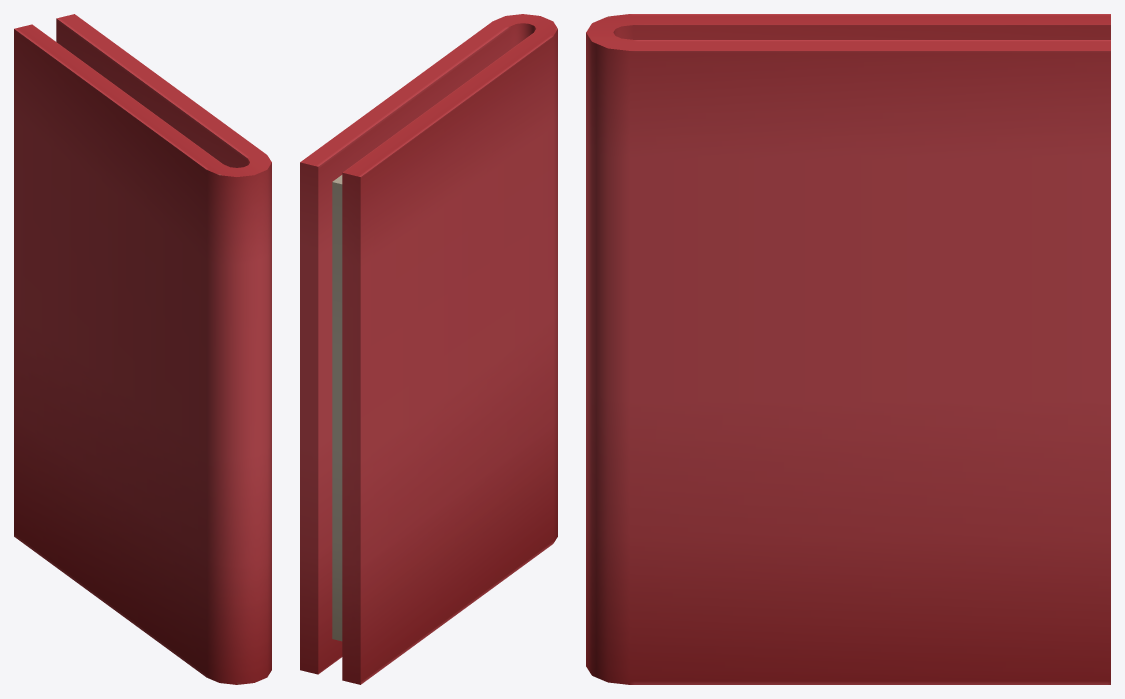
Rendered from BookPink.fbx.
3 renders of one model, left to right at view 1: azimuth 30°, elevation 25°; view 2: azimuth 150°, elevation 25°; view 3: azimuth 270°, elevation 25°, orthographic. The views are drawn at different scales.
Visible parts, largest first — view 1: BookPink; view 2: BookPink; view 3: BookPink.
Part boxes in pixels (bbox=[...]): BookPink: bbox=[14, 14, 271, 684]; BookPink: bbox=[300, 14, 557, 684]; BookPink: bbox=[586, 14, 1110, 684].
Size of the model in its own units: 10 by 80 by 60.
